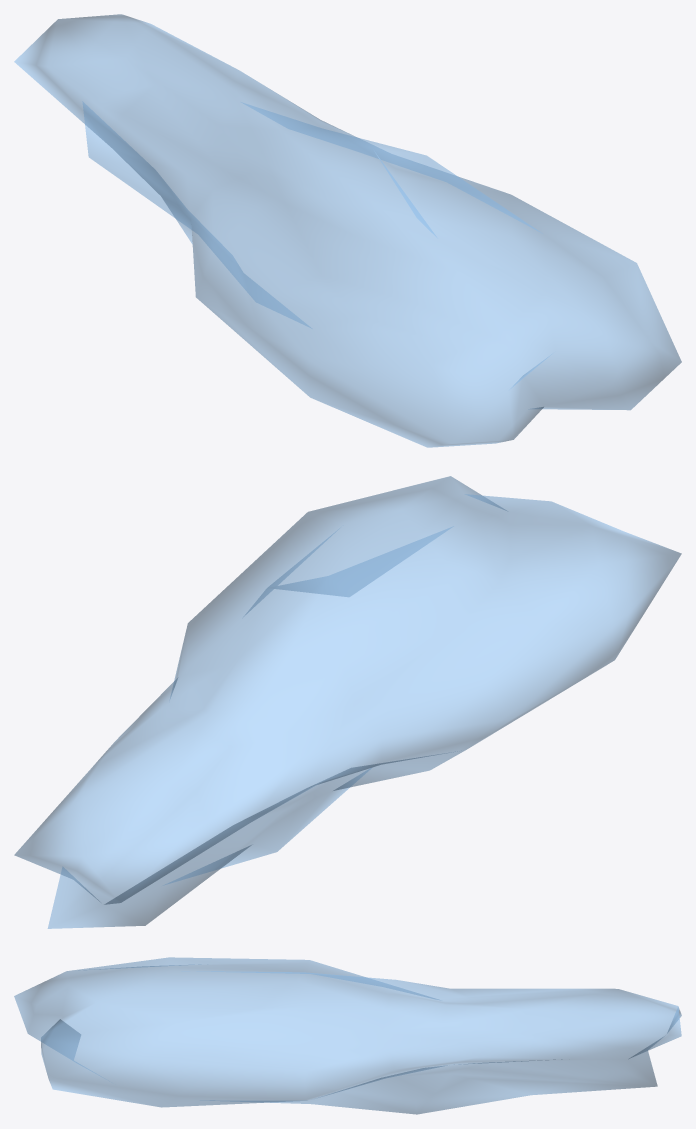
The model's file is tsmirnoff_shield.gltf.
3 views of the same model, one above another, from view 1: azimuth 30°, elevation 25°; view 2: azimuth 150°, elevation 25°; view 3: azimuth 270°, elevation 25° (orthographic). The views are drawn at different scales.
Visible parts, largest first — view 1: tsmirnoff.shield; view 2: tsmirnoff.shield; view 3: tsmirnoff.shield.
Boxes of the visible parts, left/top/right/bottom form: tsmirnoff.shield: left=14, top=14, right=681, bottom=447; tsmirnoff.shield: left=14, top=476, right=681, bottom=928; tsmirnoff.shield: left=14, top=957, right=681, bottom=1114.
Size of the model in its own units: 17.79 by 10.77 by 47.14.
